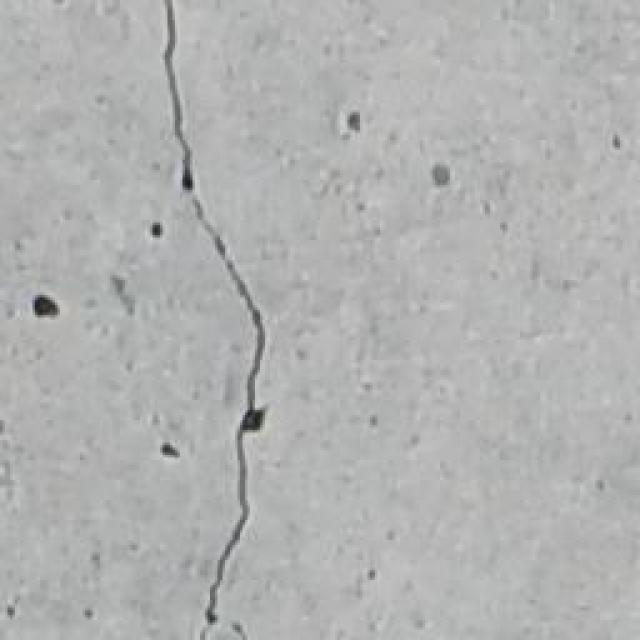concrete-crack: (162, 0, 270, 625)
